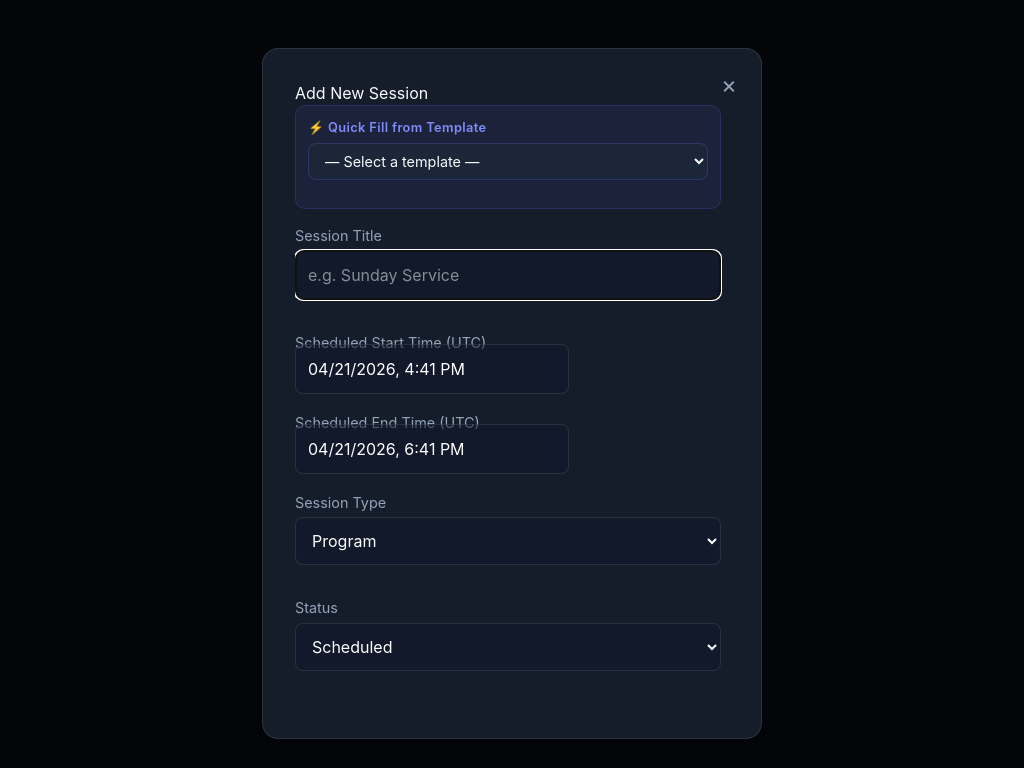
Scenario: AddSessionModal › fills type from template
Check: the text "⚡ Quick Fill from Template" is shown, box [308,120,486,135]
Select "2" in the dropdown below "⚡ Quick Fill from Template" at (508, 161), box [308,143,708,180]
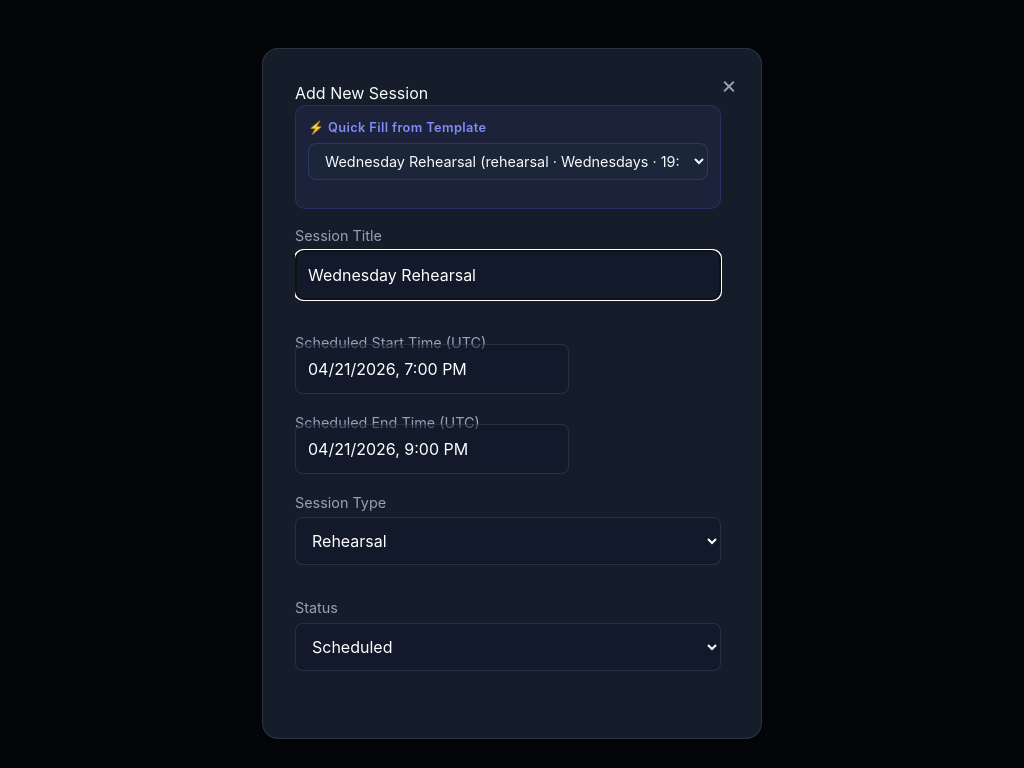
Check: the dropdown below "Session Type" shows "Rehearsal", box [295,517,721,565]
